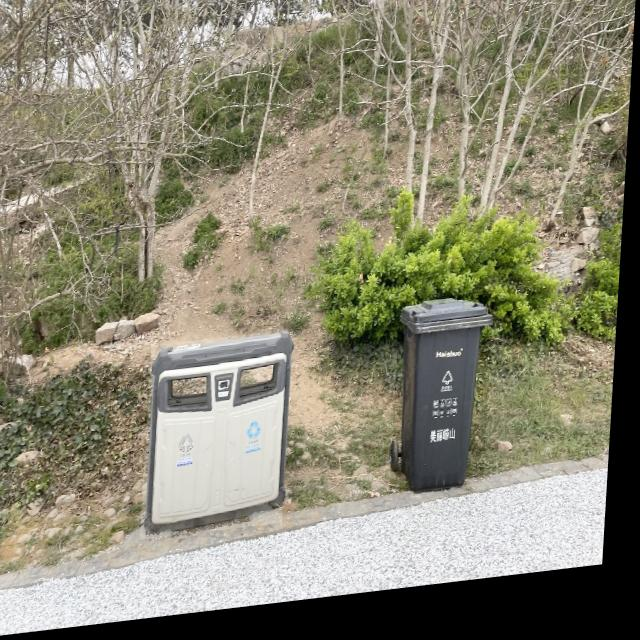garbage_bin: (147, 337, 298, 544), (396, 303, 499, 505)
